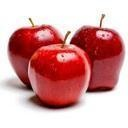apple: (5, 25, 68, 90)
